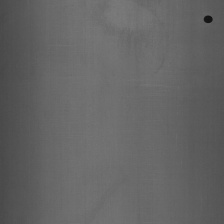punching_hole: (203, 13, 214, 25)
